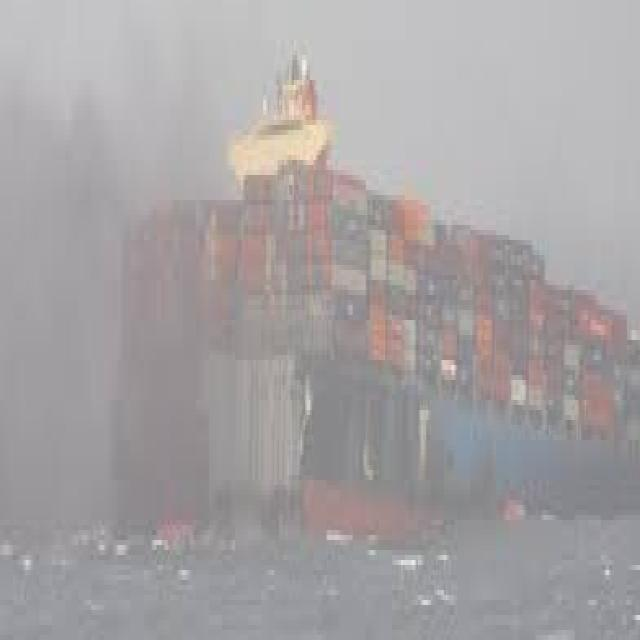cargoship: (115, 50, 640, 526)
